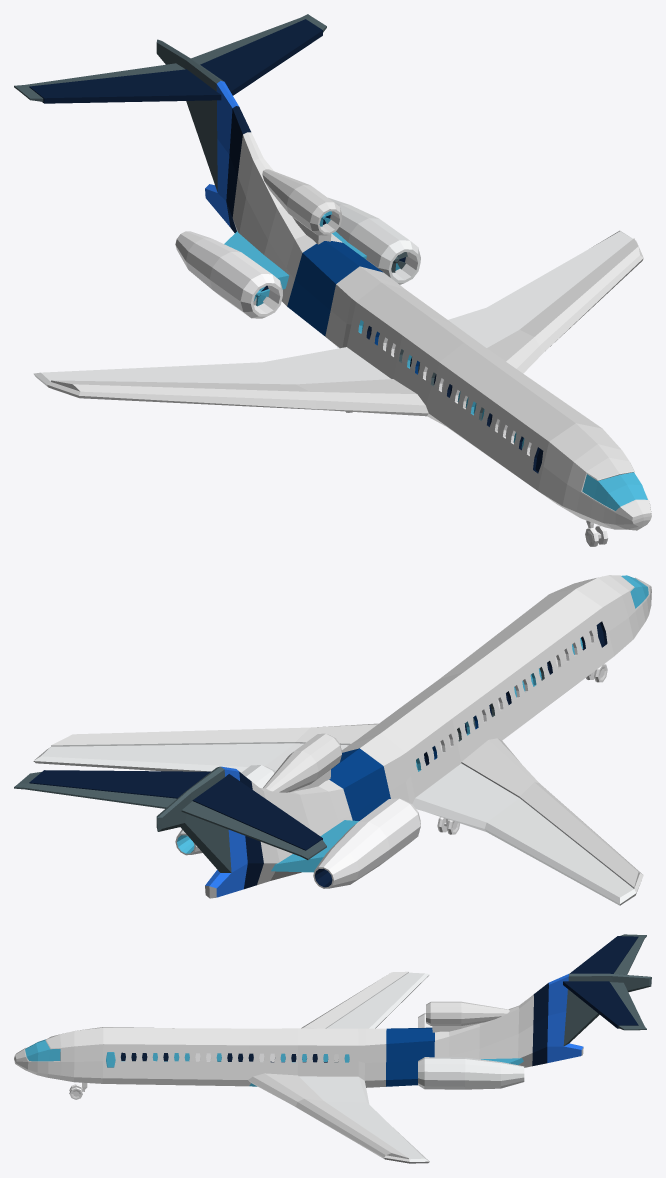
The model's file is ari plane.FBX.
The picture shows the model from 3 angles, top to bottom: view 1: azimuth 30°, elevation 25°; view 2: azimuth 150°, elevation 25°; view 3: azimuth 270°, elevation 25°; orthographic projection. The views are drawn at different scales.
Visible parts, largest first — view 1: ComPlaneV2; view 2: ComPlaneV2; view 3: ComPlaneV2.
Boxes of the visible parts, bbox=[...] form: ComPlaneV2: bbox=[14, 14, 651, 530]; ComPlaneV2: bbox=[14, 575, 651, 905]; ComPlaneV2: bbox=[14, 934, 651, 1163].
Size of the model in its own units: 86.71 by 26.71 by 124.
1 material, 1 textured.
